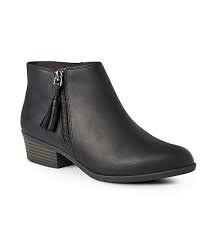Ankle boots: (16, 56, 199, 186)
